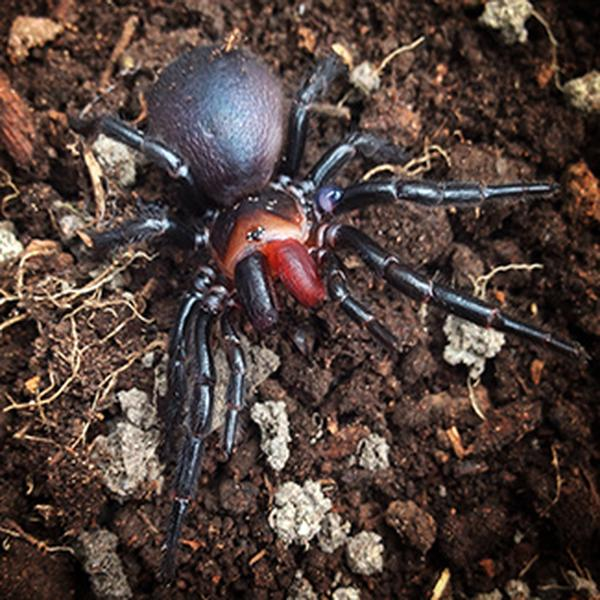Funnel Web Spider: (87, 49, 564, 553)
